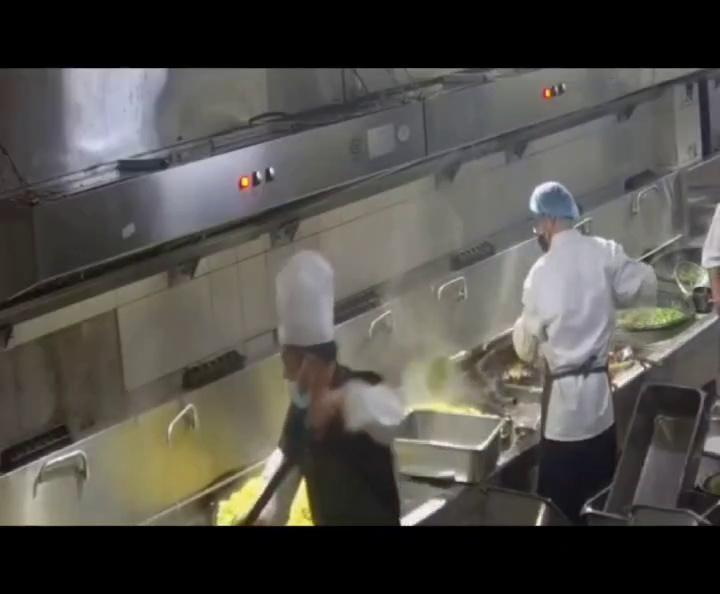mask: (279, 356, 321, 408)
